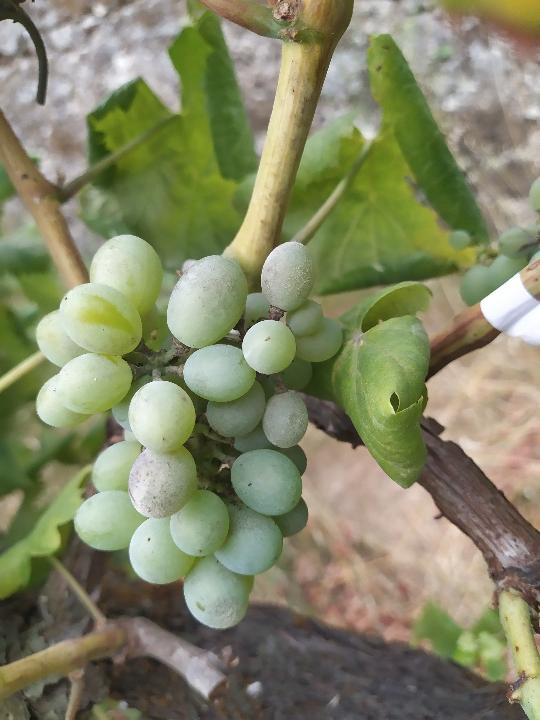grape: (28, 234, 346, 628)
